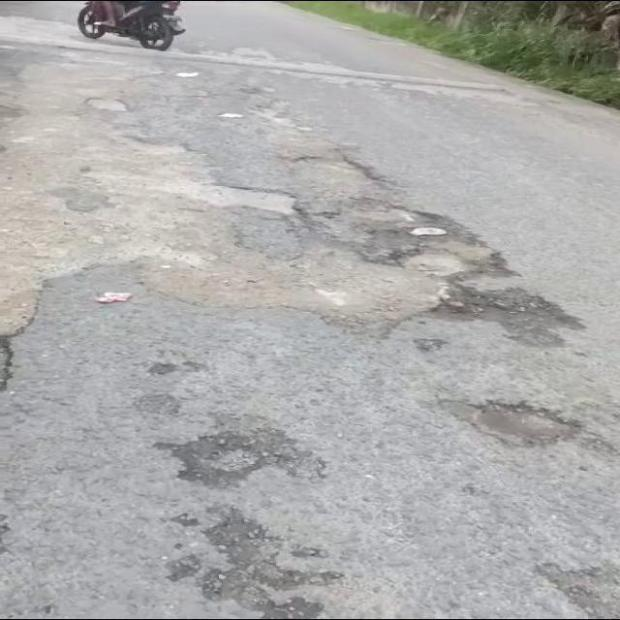lubang: (285, 136, 571, 350), (171, 509, 337, 617), (155, 417, 326, 484), (439, 400, 580, 446), (536, 562, 619, 617)
